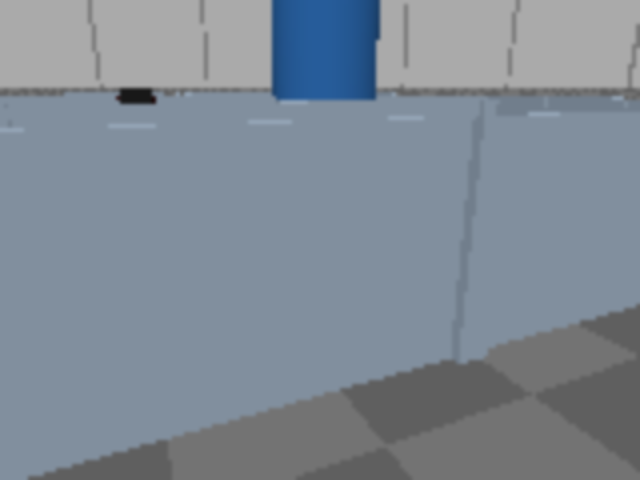person: (0, 0, 10, 197)
